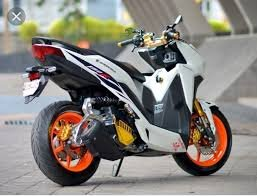motor: (24, 23, 234, 187)
